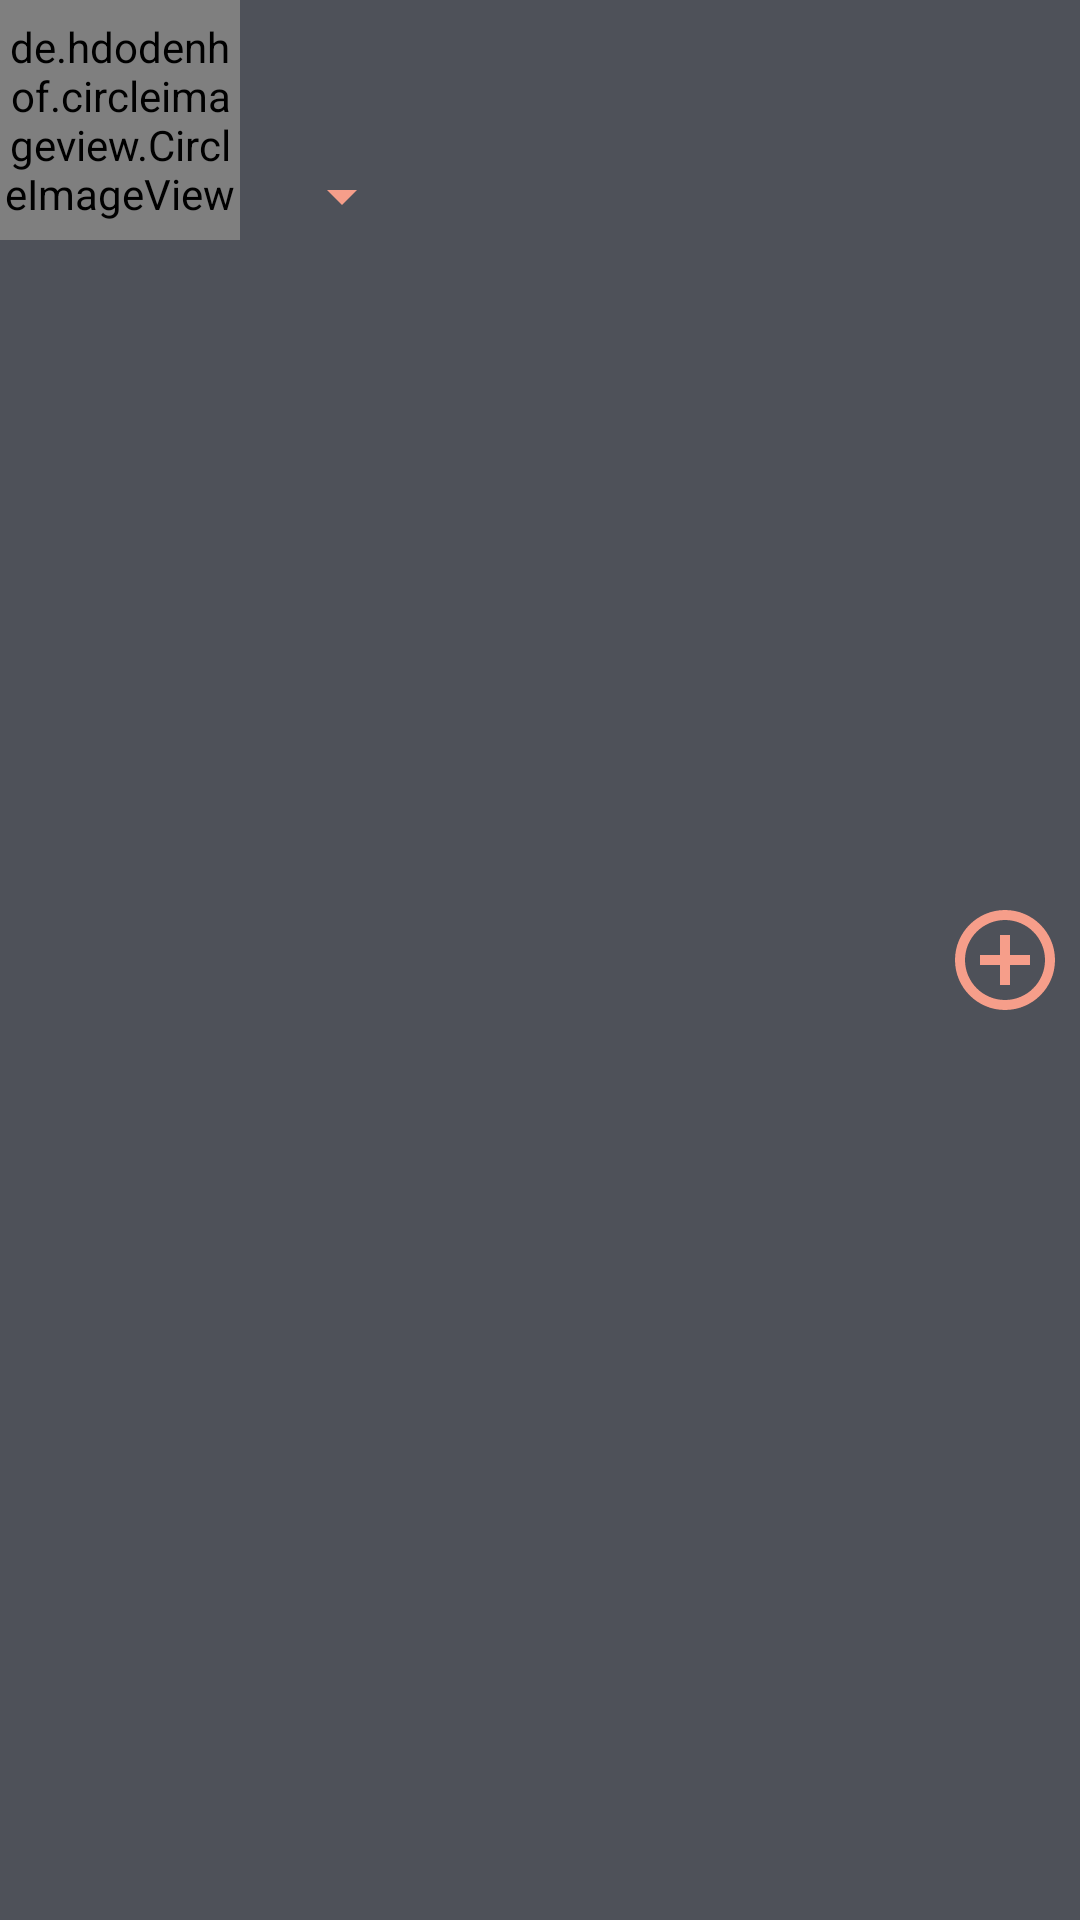

Where icons sit on this 1080px×1920px app screen, as (x1, y1, x2, y2):
adding exercise to workout image: (955, 910, 1055, 1010)
